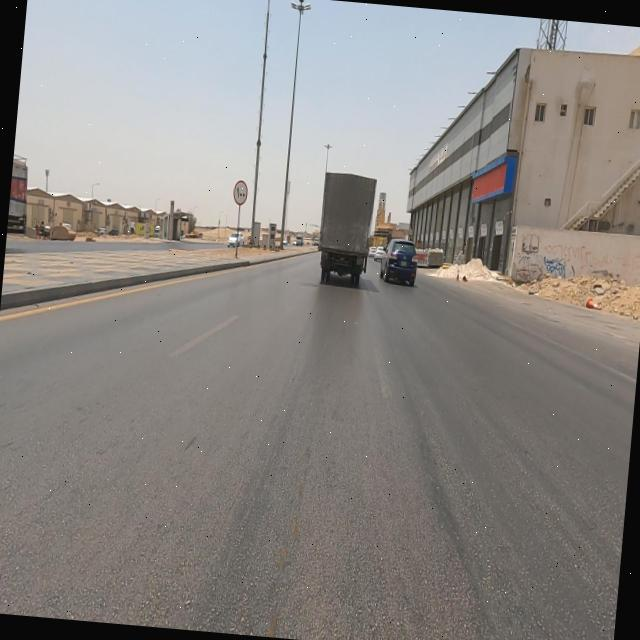Graffiti: (542, 244, 640, 284), (517, 233, 542, 281)
